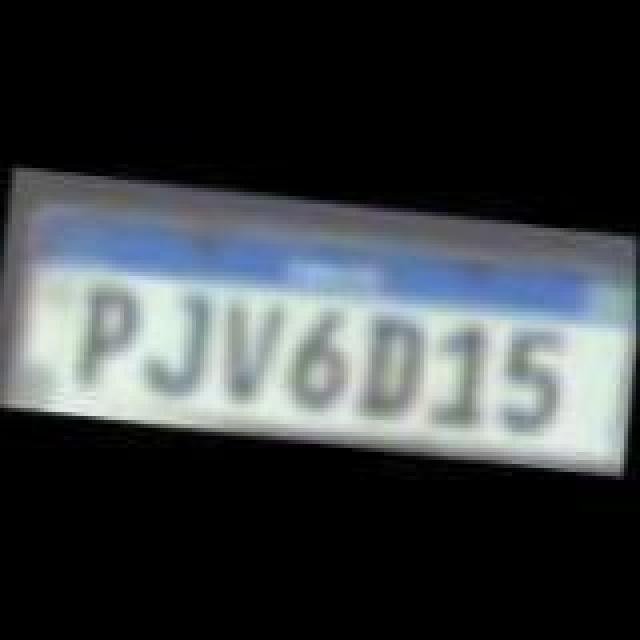1: (416, 316, 500, 436)
5: (496, 324, 576, 444)
6: (276, 298, 360, 418)
D: (352, 302, 428, 426)
J: (140, 290, 224, 406)
P: (72, 278, 148, 402)
V: (210, 292, 290, 412)
